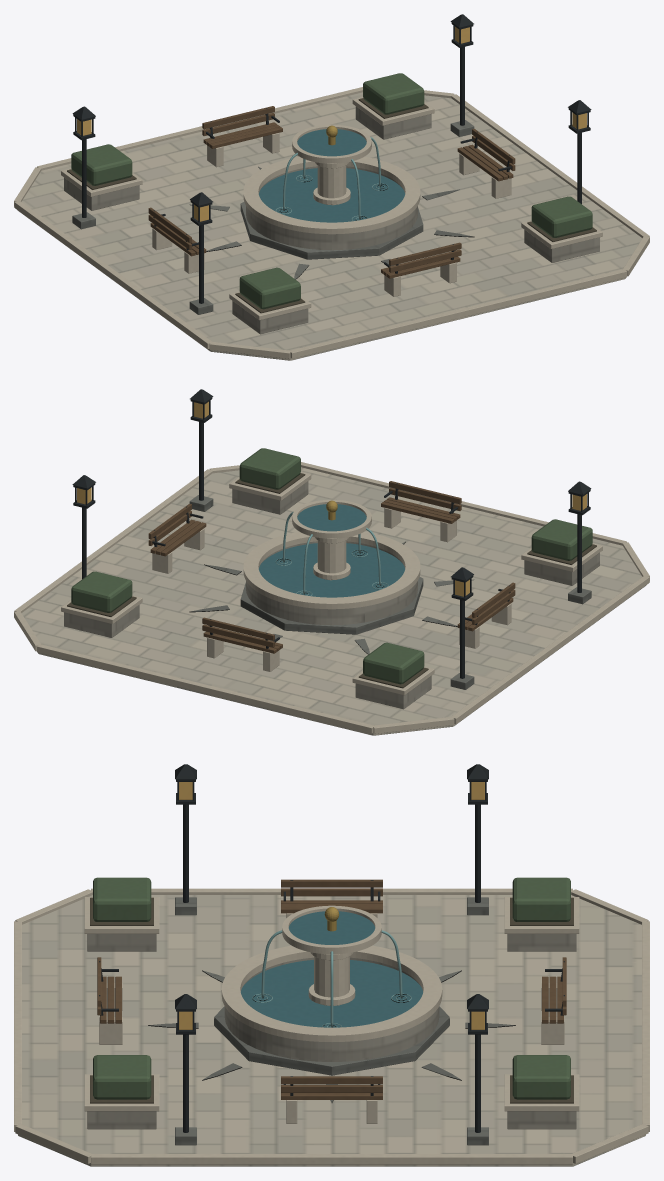
The model's file is Plaza.fbx.
3 views of the same model, one above another, from view 1: azimuth 30°, elevation 25°; view 2: azimuth 150°, elevation 25°; view 3: azimuth 270°, elevation 25° (orthographic). The views are drawn at different scales.
Parts seen in each view (by area): view 1: Plaza.001; view 2: Plaza.001; view 3: Plaza.001.
Part boxes in pixels (left/top/right/bottom): Plaza.001: left=14, top=14, right=649, bottom=360; Plaza.001: left=14, top=389, right=649, bottom=735; Plaza.001: left=14, top=764, right=649, bottom=1166.
Bounding box in the file's own units: 17.42 × 4.67 × 17.42.
